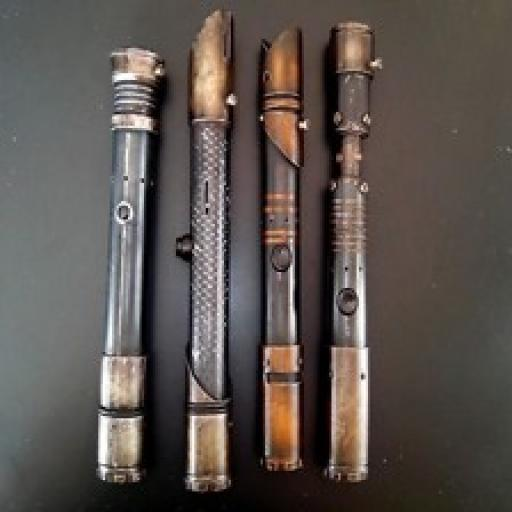lightsaber: (172, 7, 241, 493), (95, 44, 166, 490), (318, 17, 376, 492), (252, 24, 306, 474)
